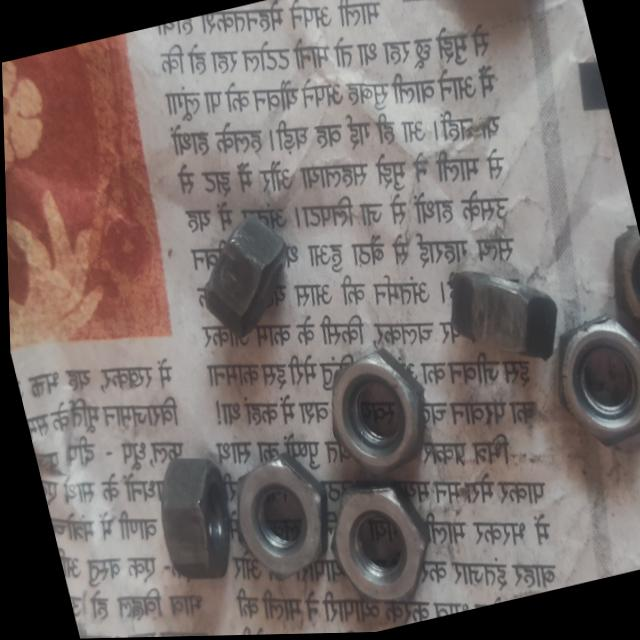disinfected nut: (328, 350, 421, 475), (330, 485, 426, 603), (233, 455, 323, 577), (558, 318, 640, 446), (202, 215, 284, 338), (446, 271, 555, 361), (157, 456, 227, 579), (612, 226, 640, 325)
